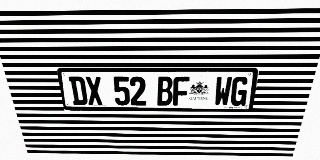2: (129, 76, 146, 105)
5: (113, 76, 131, 105)
B: (157, 77, 173, 106)
D: (68, 76, 88, 105)
F: (173, 77, 189, 106)
G: (229, 77, 250, 106)
W: (213, 77, 233, 106)
X: (85, 76, 104, 105)
